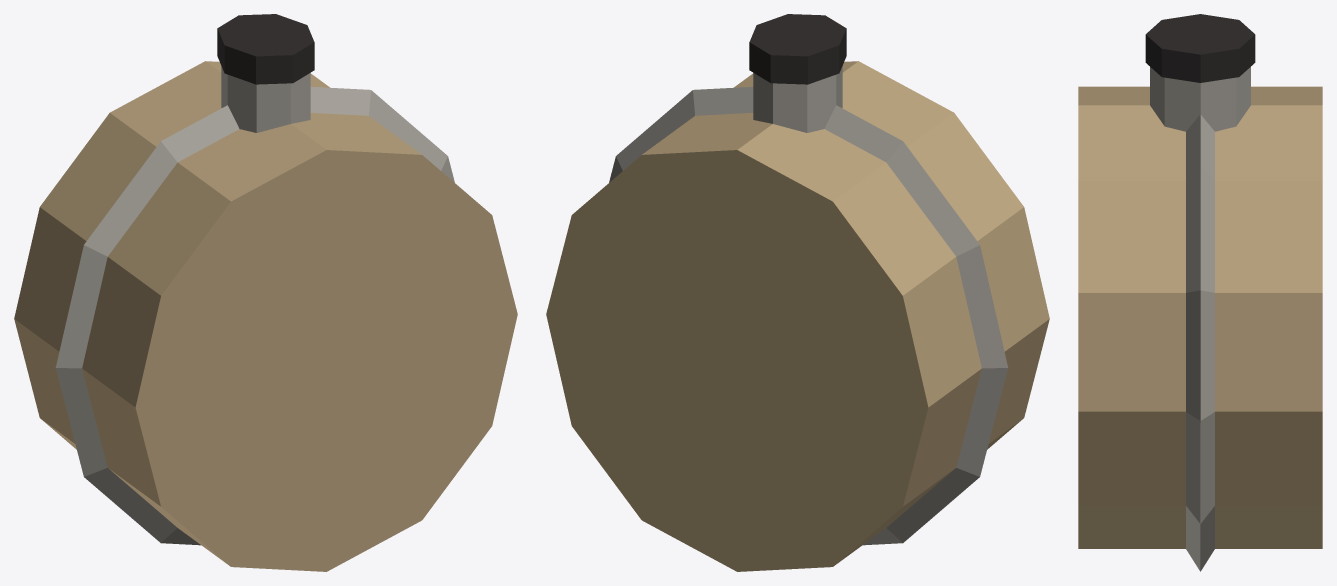
Rendered from Canteen.fbx.
3 renders of one model, left to right at view 1: azimuth 30°, elevation 25°; view 2: azimuth 150°, elevation 25°; view 3: azimuth 270°, elevation 25°, orthographic.
Parts seen in each view (by area): view 1: Canteen; view 2: Canteen; view 3: Canteen.
Part boxes in pixels (box(x1,y1,x2,y2)): Canteen: box(14, 14, 517, 571); Canteen: box(546, 14, 1049, 571); Canteen: box(1078, 14, 1322, 571).
Size of the model in its own units: 1.2 by 1.4 by 0.6.
